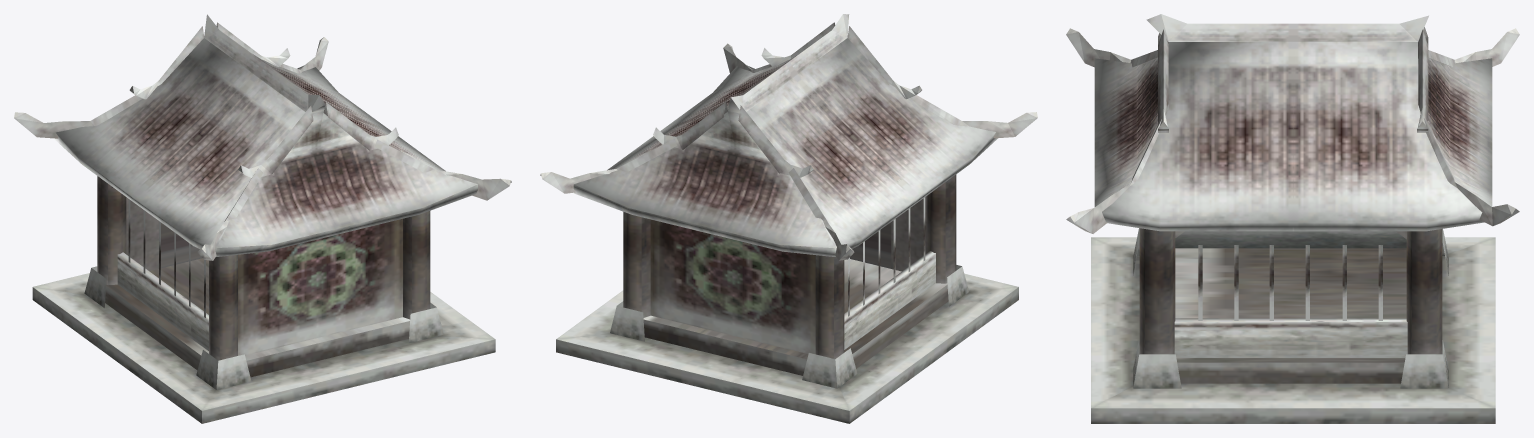
Rendered from snow-004-house2_lod_01.fbx.
The picture shows the model from 3 angles, left to right: view 1: azimuth 30°, elevation 25°; view 2: azimuth 150°, elevation 25°; view 3: azimuth 270°, elevation 25°; orthographic projection. The views are drawn at different scales.
Parts seen in each view (by area): view 1: ob-004-hause2; view 2: ob-004-hause2; view 3: ob-004-hause2.
Boxes of the visible parts, left/top/right/bottom form: ob-004-hause2: left=14, top=14, right=511, bottom=423; ob-004-hause2: left=540, top=14, right=1037, bottom=423; ob-004-hause2: left=1066, top=14, right=1519, bottom=423.
Bounding box in the file's own units: 4.01 × 3.31 × 4.19.
